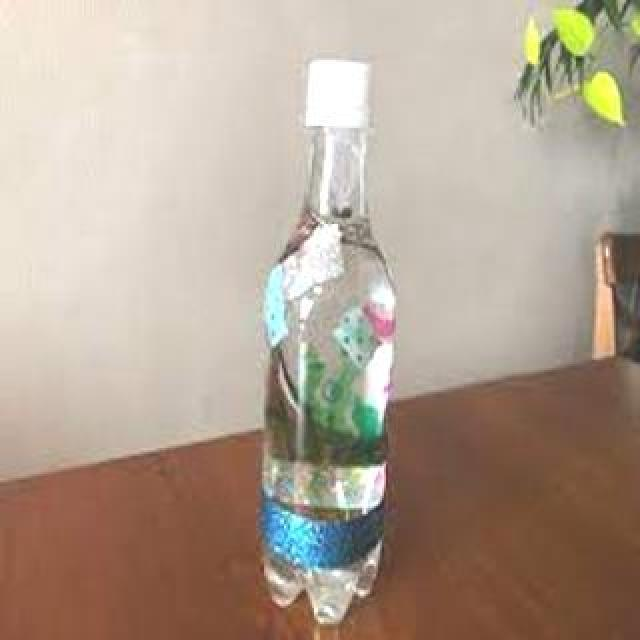Pet_Bottle: (257, 52, 403, 624)
